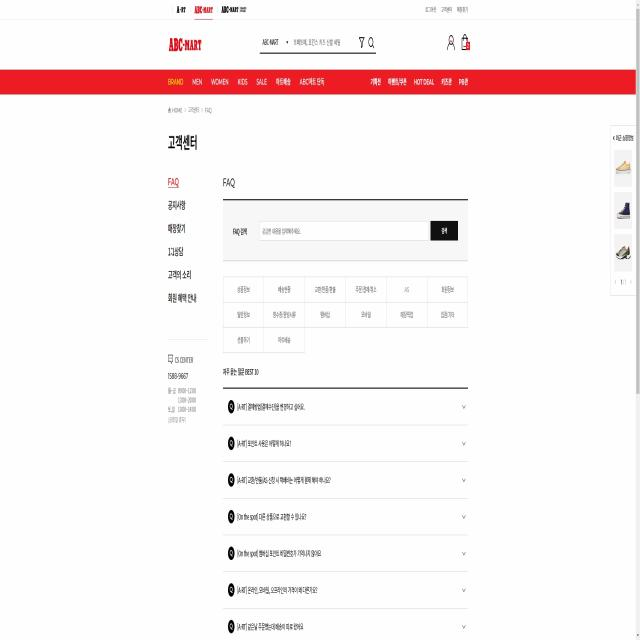menu-bar: (444, 26, 473, 59)
menu-panel: (164, 124, 211, 314)
search: (258, 217, 460, 244), (257, 28, 379, 56)
side-panel: (608, 122, 636, 298)
tab-bar: (165, 68, 326, 94), (170, 0, 248, 16)
